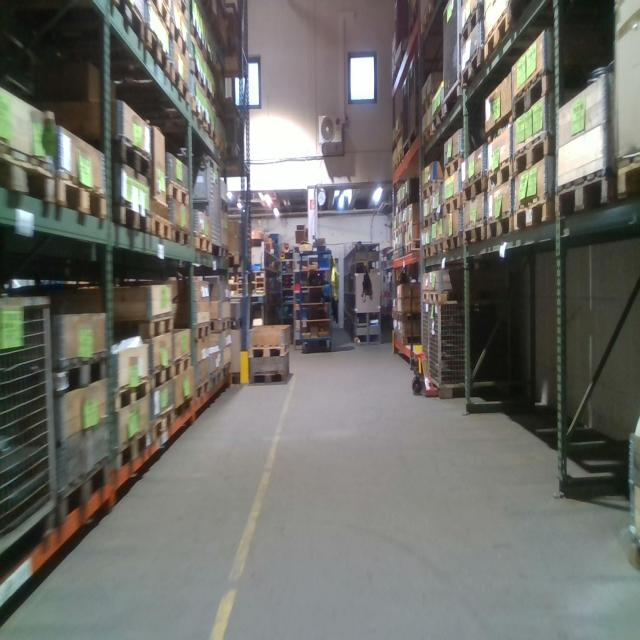pallet: (1, 141, 55, 215), (552, 164, 619, 222), (58, 456, 111, 528), (509, 66, 572, 122), (91, 130, 155, 182), (54, 168, 108, 226), (51, 349, 108, 400), (511, 128, 564, 180), (97, 0, 148, 46), (107, 309, 174, 344), (114, 428, 153, 478), (484, 6, 522, 55), (110, 201, 149, 245), (514, 193, 557, 231), (144, 26, 172, 84), (115, 373, 151, 416), (481, 106, 514, 146), (486, 208, 520, 246), (457, 54, 490, 93), (485, 157, 517, 195), (458, 6, 485, 50), (167, 62, 188, 117), (149, 356, 176, 394), (148, 406, 173, 447), (144, 207, 172, 243), (442, 150, 472, 183), (617, 158, 640, 200), (463, 169, 488, 206), (418, 289, 472, 305), (144, 2, 172, 32), (247, 338, 293, 356), (183, 19, 208, 52), (169, 23, 190, 62), (189, 94, 210, 133), (171, 394, 194, 429), (167, 219, 189, 255), (162, 181, 189, 207), (462, 222, 487, 249), (250, 367, 289, 384), (420, 90, 445, 116), (208, 122, 226, 157), (442, 194, 467, 218), (207, 312, 233, 335), (190, 58, 207, 91), (208, 89, 225, 122), (188, 235, 212, 258), (443, 230, 465, 255), (174, 351, 193, 379), (167, 0, 191, 22), (208, 44, 222, 81), (208, 366, 224, 397), (423, 120, 439, 150), (421, 181, 444, 201), (431, 231, 443, 265), (195, 320, 212, 343), (193, 377, 209, 401), (420, 211, 432, 236), (419, 241, 432, 260)
pallet_truck: (402, 261, 440, 398)
stillage: (2, 281, 64, 588), (430, 294, 510, 401), (191, 153, 223, 253), (410, 51, 441, 153), (441, 0, 467, 115), (401, 70, 411, 160), (419, 291, 429, 368)
